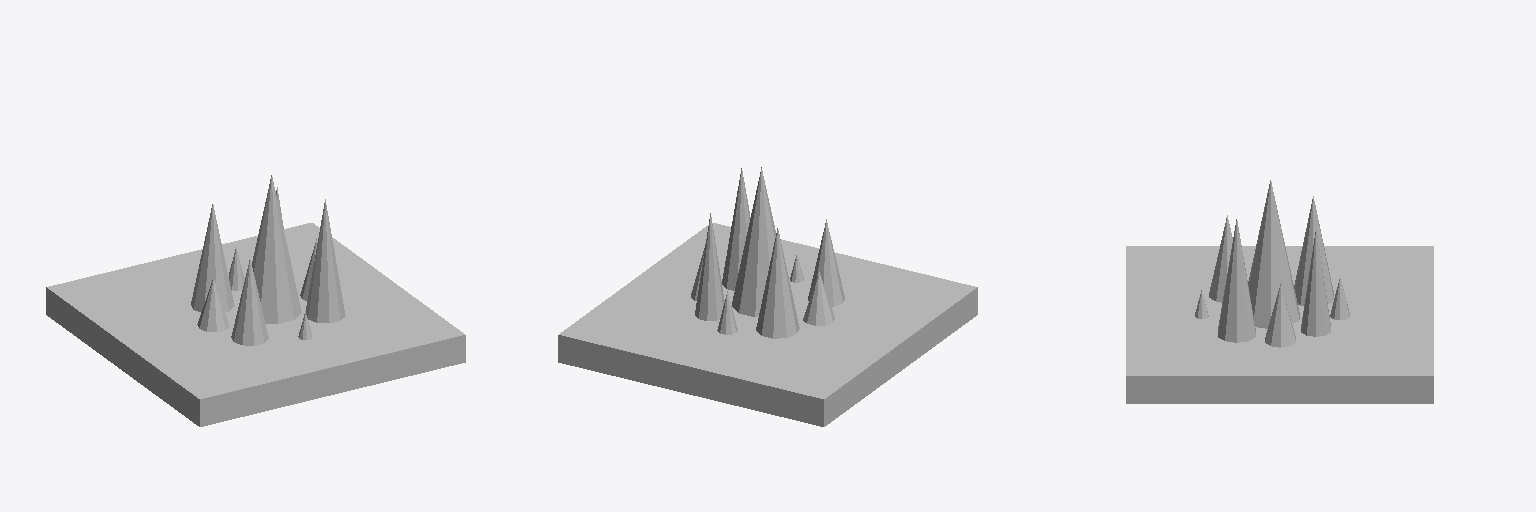
Rendered from Stalagmite1.mtl.obj.
3 renders of one model, left to right at view 1: azimuth 30°, elevation 25°; view 2: azimuth 150°, elevation 25°; view 3: azimuth 270°, elevation 25°, orthographic.
Parts seen in each view (by area): view 1: Box001, Cone002, Cone008, Cone009, Cone003, Cone005; view 2: Box001, Cone002, Cone009, Cone004, Cone008, Cone003, Cone005; view 3: Box001, Cone002, Cone008, Cone004, Cone009, Cone010, Cone003.
Boxes of the visible parts, box(x1,y1,x2,y2) form: Box001: box(46, 223, 465, 426); Cone002: box(252, 175, 301, 323); Cone008: box(306, 199, 345, 322); Cone009: box(191, 204, 234, 311); Cone003: box(231, 259, 268, 345); Cone005: box(197, 277, 229, 331); Box001: box(558, 223, 977, 426); Cone002: box(732, 167, 775, 316); Cone009: box(756, 228, 799, 338); Cone004: box(695, 213, 724, 320); Cone008: box(722, 168, 750, 290); Cone003: box(808, 219, 844, 306); Cone005: box(803, 272, 834, 325); Box001: box(1126, 246, 1433, 403); Cone002: box(1248, 180, 1299, 328); Cone008: box(1218, 219, 1255, 342); Cone004: box(1301, 230, 1330, 336); Cone009: box(1294, 196, 1333, 305); Cone010: box(1265, 284, 1295, 347); Cone003: box(1209, 215, 1232, 302).
Bounding box in the file's own units: 10 × 5.95 × 10.